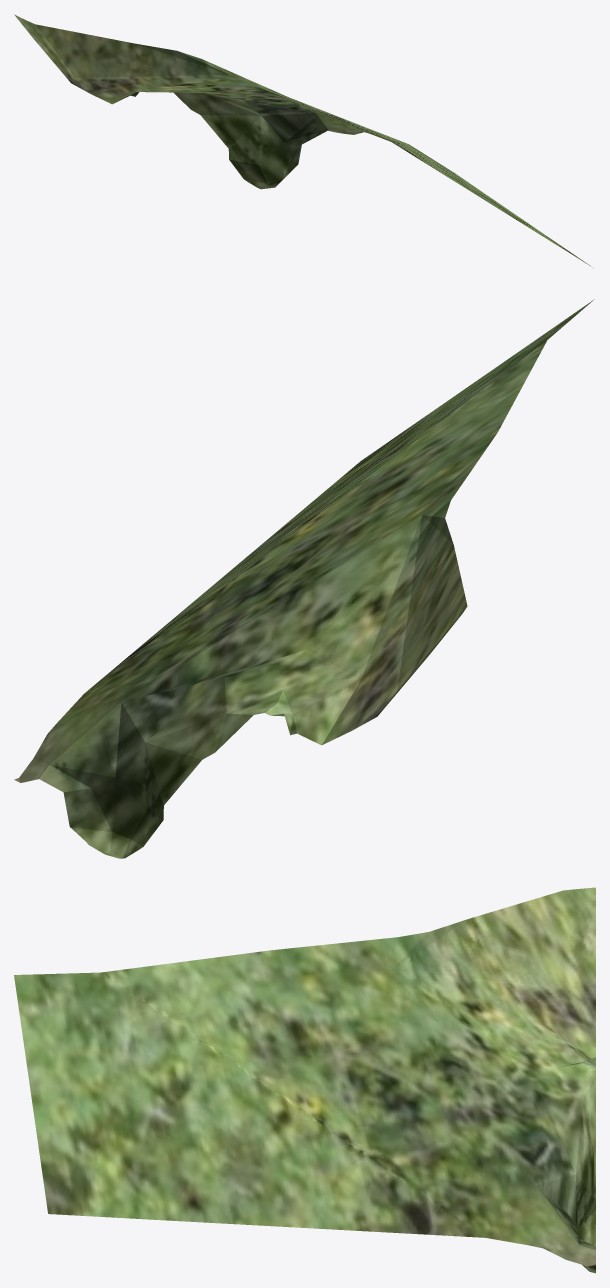
3 views of the same model, one above another, from view 1: azimuth 30°, elevation 25°; view 2: azimuth 150°, elevation 25°; view 3: azimuth 270°, elevation 25° (orthographic). The views are drawn at different scales.
Size of the model in its own units: 1.61 by 1.11 by 2.34.
Materials: 1 (1 with a texture image).
